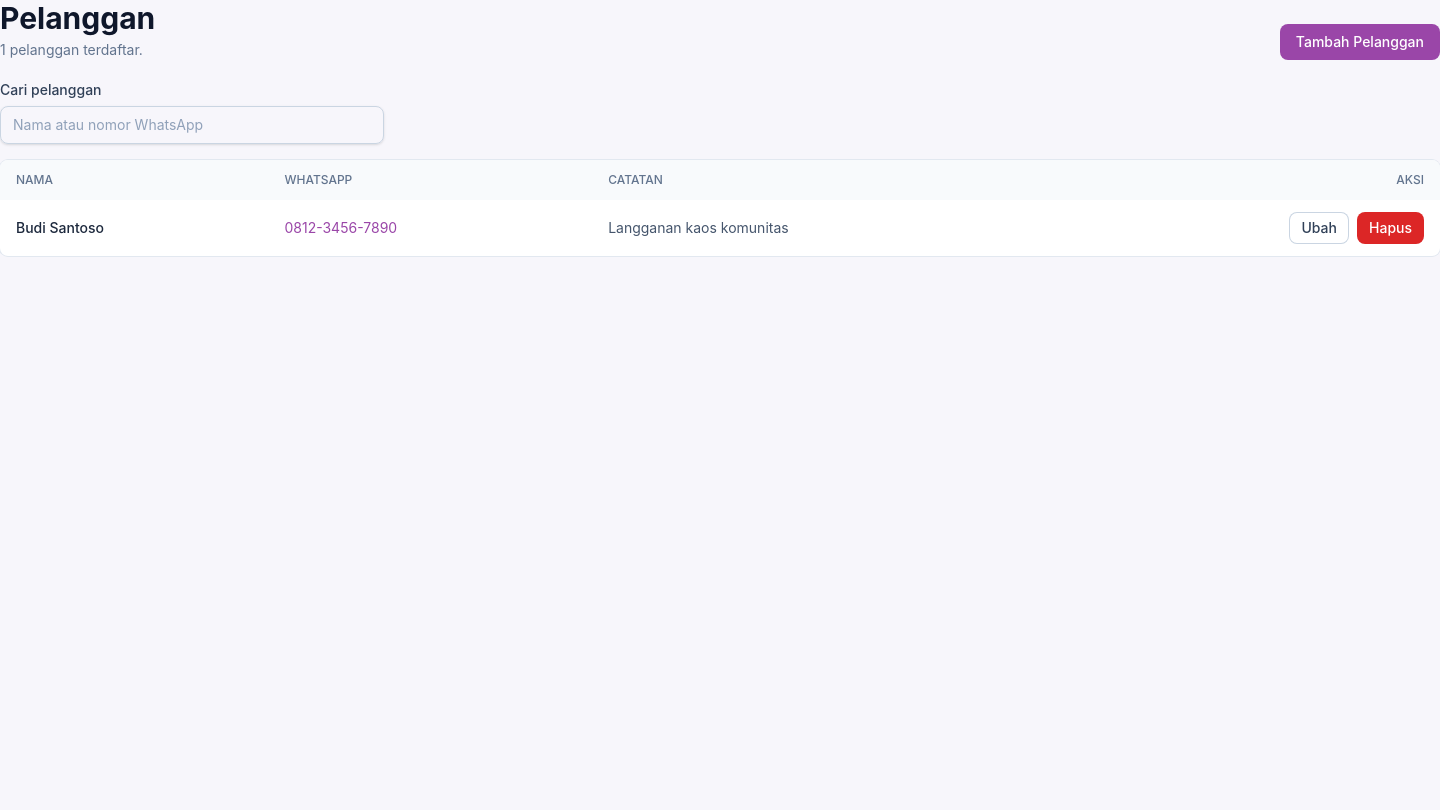
Test: CustomerListPage — ubah pelanggan › mengisi form dengan data baris yang dipilih
Expected: the text "Budi Santoso" is shown, x1=0 y1=200 x2=268 y2=256
What coordinates should you click on to do the following:
click the button with aria-label "ubah budi santoso"
I would click on:
 (1319, 228)
Its box is x1=1290 y1=212 x2=1349 y2=244.
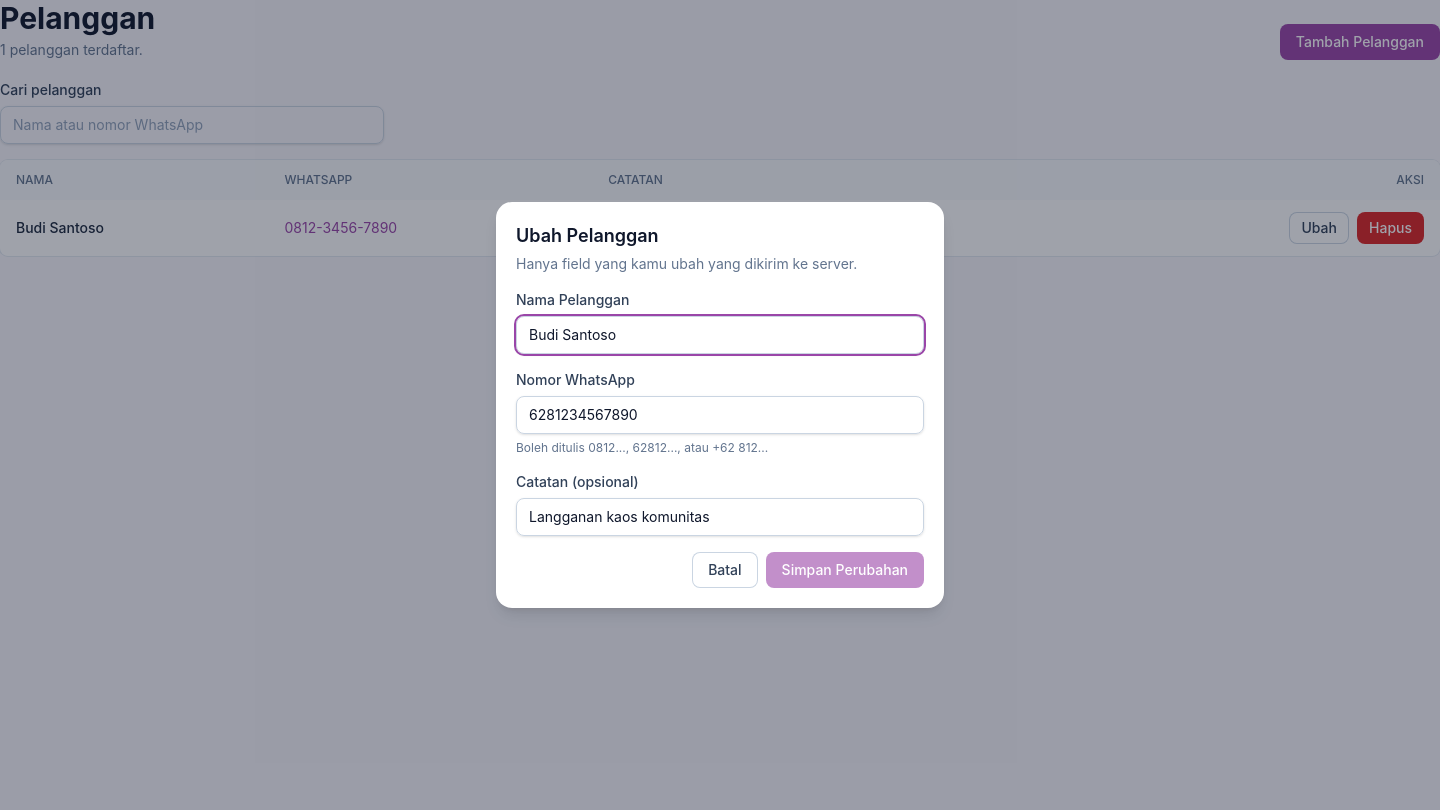
Now the field labelled "Nama Pelanggan" holds "Budi Santoso", box x1=516 y1=316 x2=924 y2=354
Now the field labelled "Nomor WhatsApp" holds "6281234567890", box x1=516 y1=396 x2=924 y2=434
